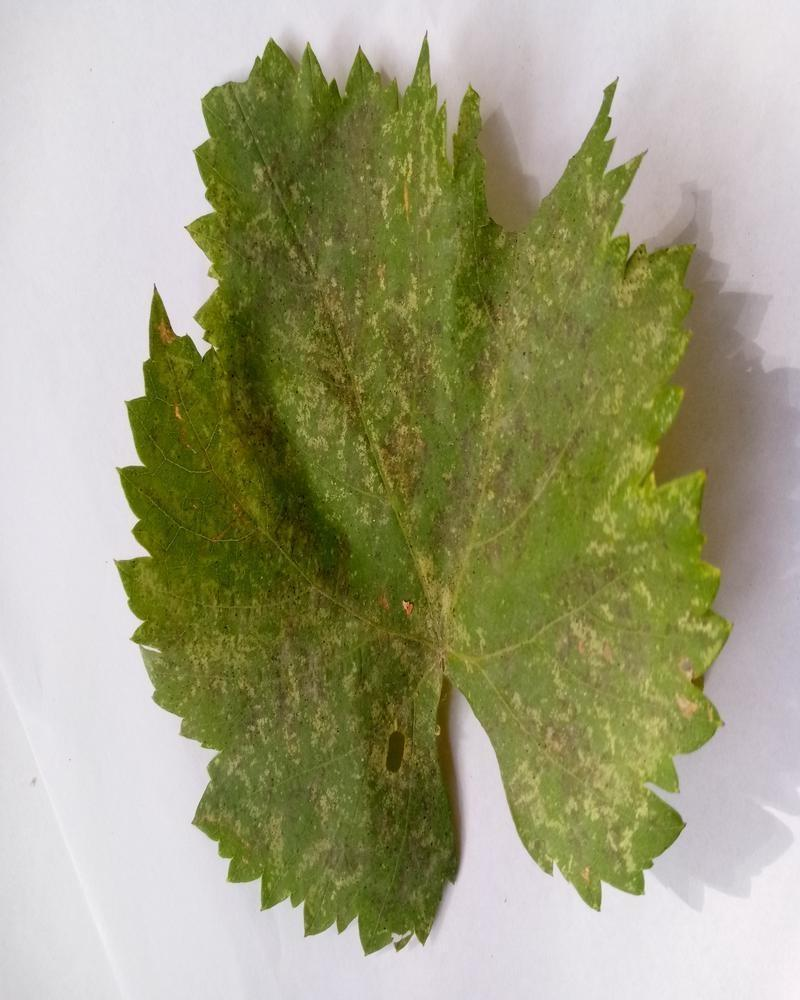Powdery-Mildew: (287, 332, 431, 475), (557, 694, 673, 830), (380, 536, 471, 655), (578, 472, 681, 556), (548, 618, 611, 681)
